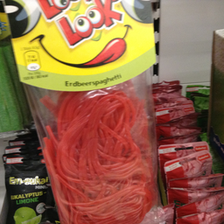candy: (14, 1, 159, 222)
